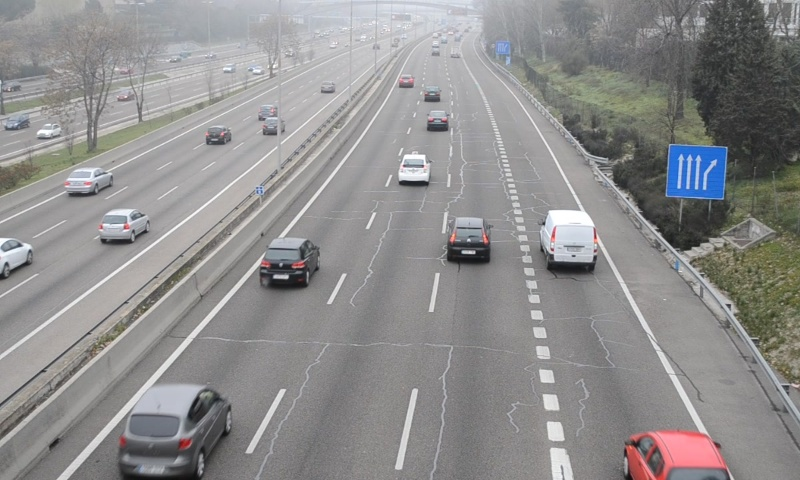car: (117, 384, 232, 480), (258, 237, 320, 286), (448, 216, 490, 261), (398, 152, 430, 184), (426, 110, 448, 130), (423, 84, 441, 102), (398, 72, 412, 88)
van: (540, 210, 596, 267)
